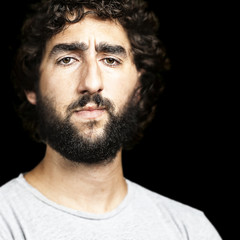young: (17, 8, 151, 155)
